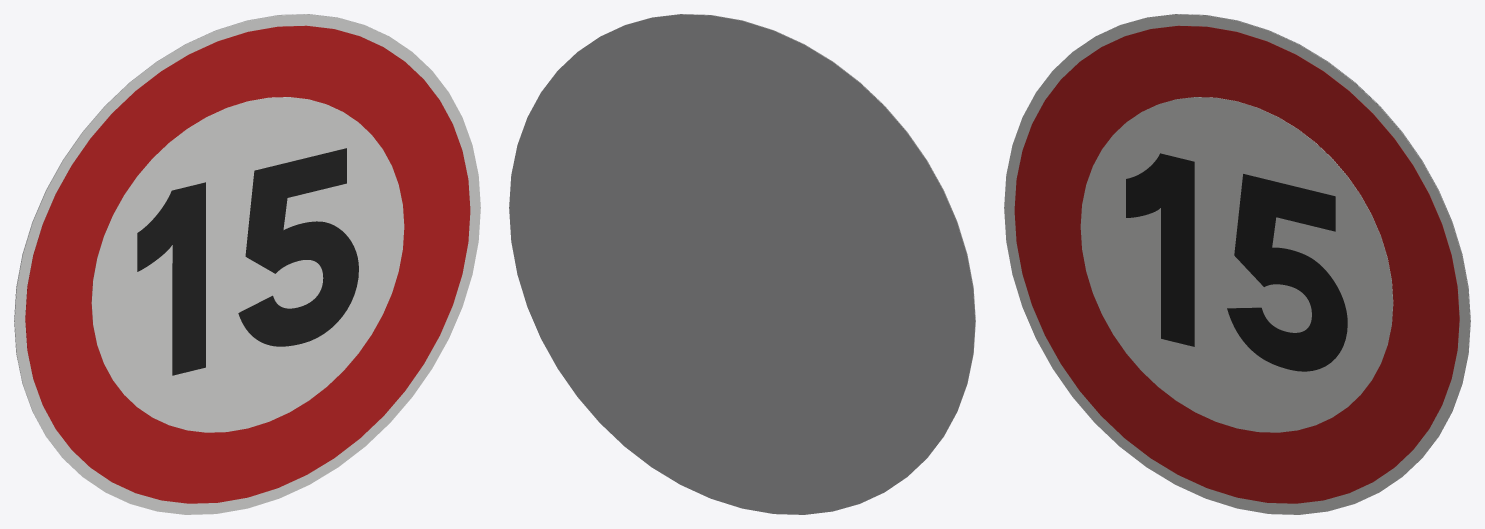
The picture shows the model from 3 angles, left to right: view 1: azimuth 30°, elevation 25°; view 2: azimuth 150°, elevation 25°; view 3: azimuth 330°, elevation 25°; orthographic projection.
Parts seen in each view (by area): view 1: B14-15_p01, B14-15_p02, B14-15_p00, B14-15_p03, B14-15_p04, B14-15_dos; view 2: B14-15_dos, B14-15_p00; view 3: B14-15_p01, B14-15_p02, B14-15_p00, B14-15_p03, B14-15_p04, B14-15_dos.
Boxes of the visible parts, bbox=[...] form: B14-15_p01: bbox=[25, 25, 470, 503]; B14-15_p02: bbox=[91, 97, 404, 432]; B14-15_p00: bbox=[14, 14, 480, 514]; B14-15_p03: bbox=[238, 148, 358, 346]; B14-15_p04: bbox=[137, 182, 205, 375]; B14-15_dos: bbox=[14, 14, 385, 473]; B14-15_dos: bbox=[509, 14, 975, 514]; B14-15_p00: bbox=[604, 14, 975, 473]; B14-15_p01: bbox=[1014, 25, 1459, 503]; B14-15_p02: bbox=[1080, 97, 1393, 432]; B14-15_p00: bbox=[1004, 14, 1470, 514]; B14-15_p03: bbox=[1227, 174, 1347, 371]; B14-15_p04: bbox=[1126, 153, 1194, 346]; B14-15_dos: bbox=[1099, 14, 1470, 473].
Size of the model in its own units: 0.85 by 0.8498 by 0.0035.
